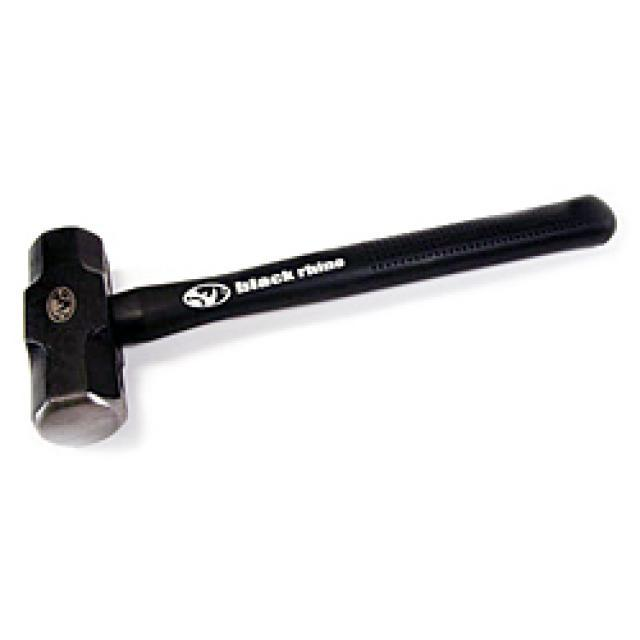hammer: (10, 189, 627, 462)
